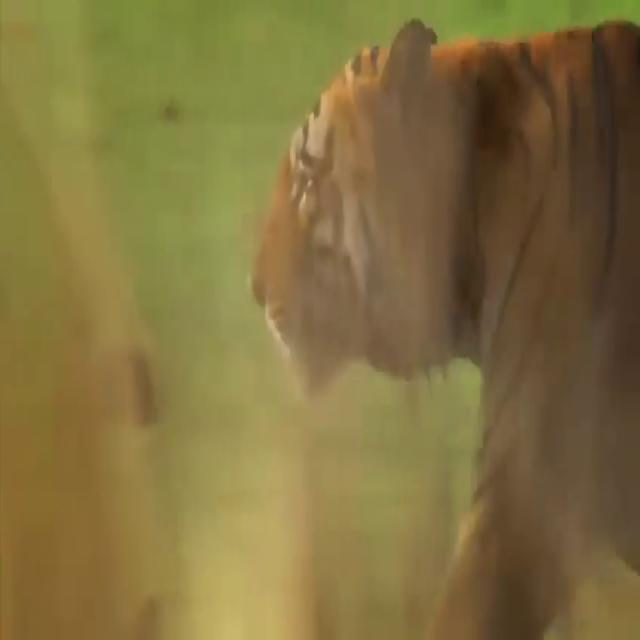tiger: (251, 14, 640, 638)
